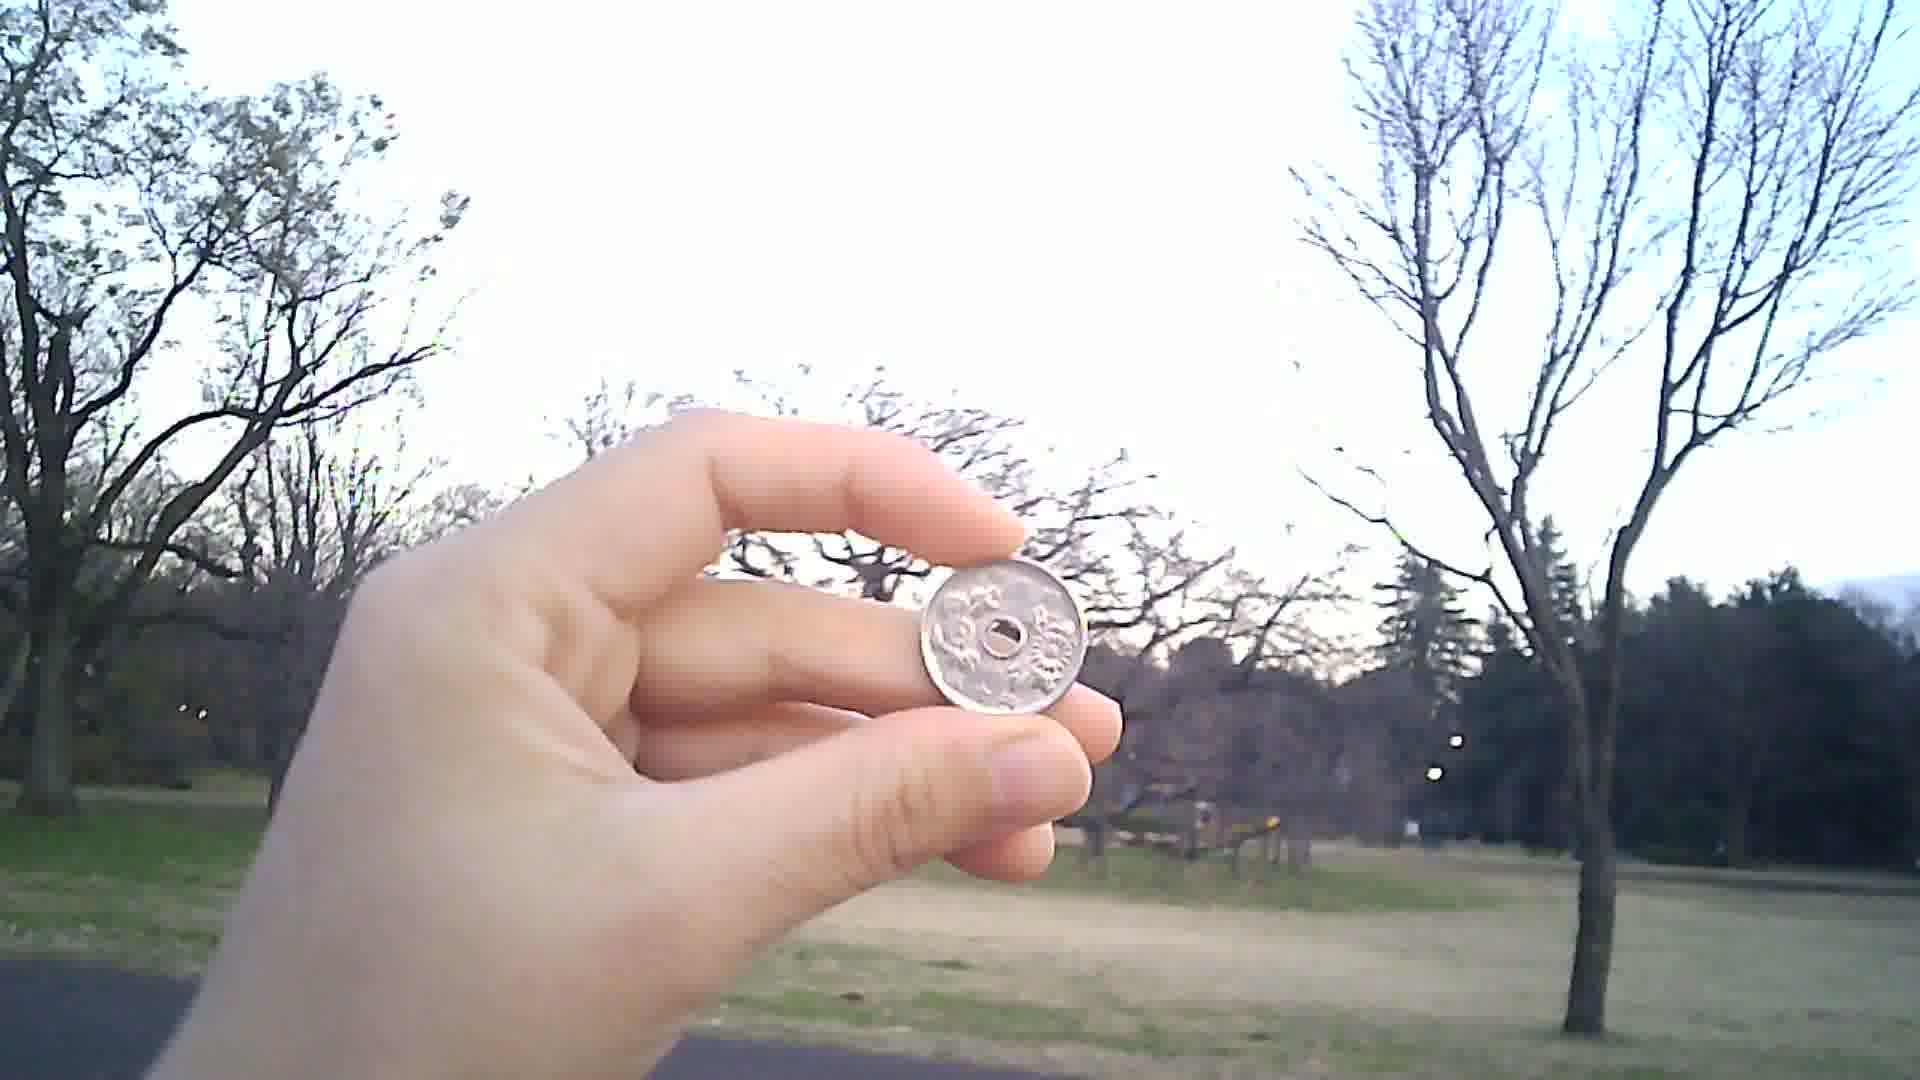50 Yen: (913, 545, 1091, 717)
